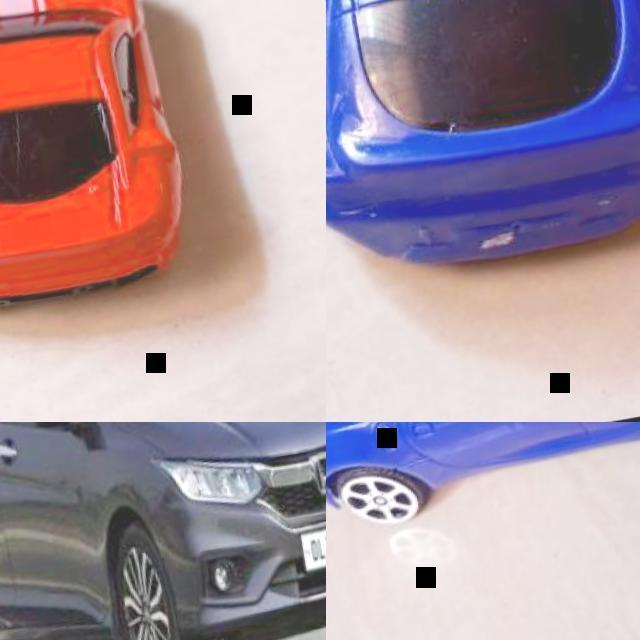car: (325, 3, 640, 285), (0, 423, 327, 640), (0, 5, 199, 309), (330, 418, 640, 532)
